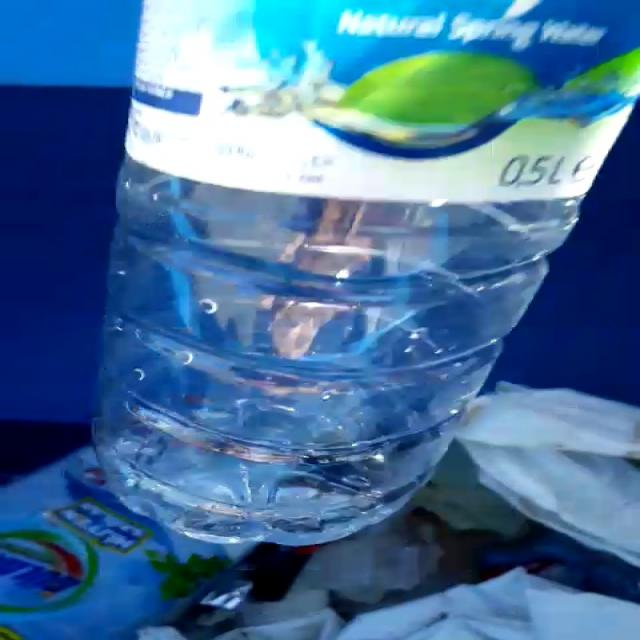plastic: (93, 0, 640, 546)
